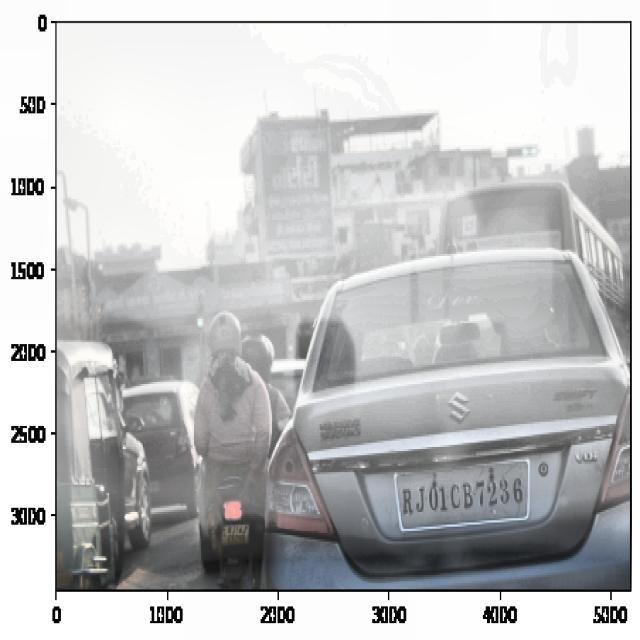license_plate: (396, 470, 530, 520)
